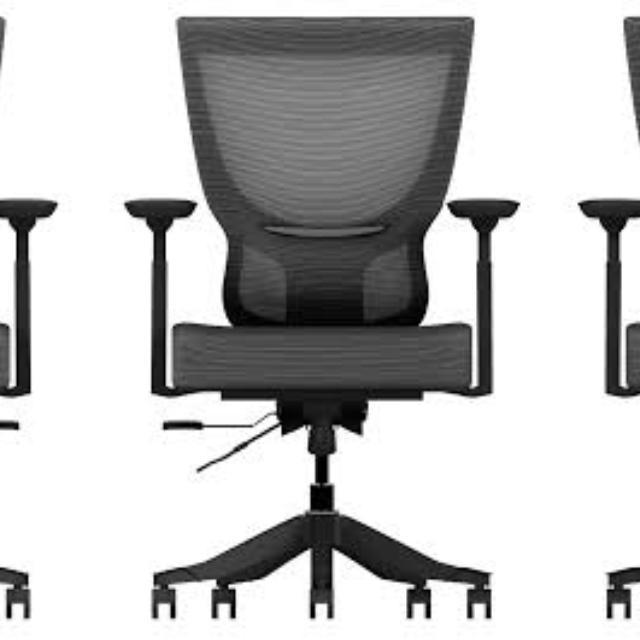obstacle: (101, 9, 509, 631), (0, 9, 79, 631), (589, 9, 640, 631)
